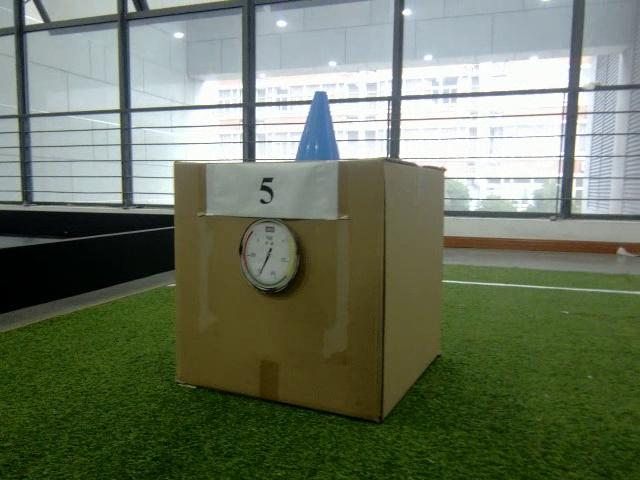5: (256, 177, 276, 204)
Dashboard: (238, 219, 303, 296)
blue_barrel: (298, 89, 341, 161)
ssi: (264, 225, 276, 232)
